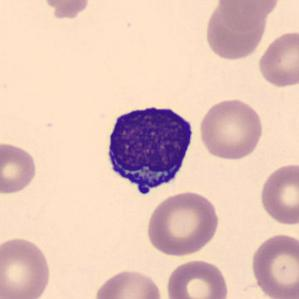Lymphocyte: (97, 96, 199, 203)
RBC: (144, 189, 222, 258), (197, 96, 265, 162), (202, 1, 270, 63), (248, 230, 298, 299), (0, 234, 53, 299), (163, 258, 231, 299), (257, 160, 298, 227), (256, 29, 298, 89), (91, 267, 165, 299), (0, 140, 39, 196), (218, 0, 282, 21), (34, 0, 94, 20)
